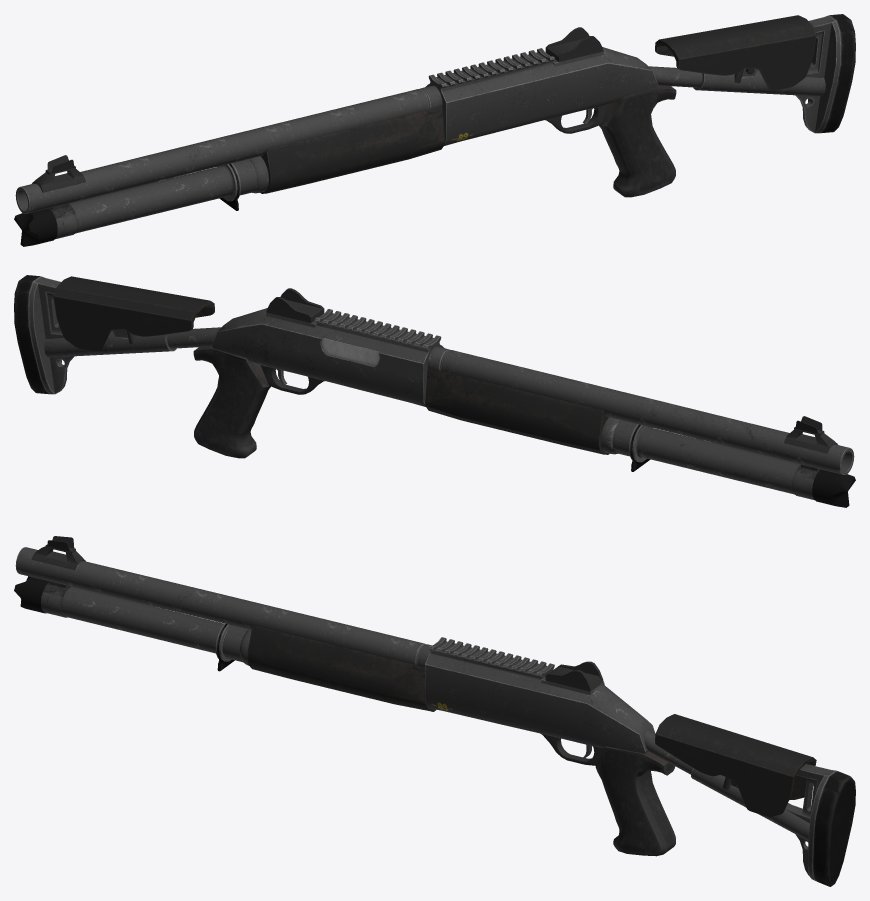
The picture shows the model from 3 angles, top to bottom: view 1: azimuth 30°, elevation 25°; view 2: azimuth 150°, elevation 25°; view 3: azimuth 330°, elevation 25°; orthographic projection.
Visible parts, largest first — view 1: Cylinder008, Cylinder001, Cylinder007, Box008, Cylinder010 (×2), Cylinder002, Box004, Cylinder006, Box009, Box002, Cylinder014, Box005; view 2: Cylinder008, Cylinder001, Cylinder007, Box008, Cylinder010 (×2), Cylinder002, Box004, Cylinder006, Box009, Box002, Box005, Cylinder014; view 3: Cylinder008, Cylinder001, Box008, Cylinder007, Cylinder010 (×2), Box004, Cylinder002, Box009, Cylinder006, Box002, Cylinder014.
Part boxes in pixels (x1,y1,x2,y2): Cylinder008: (425, 47, 658, 145); Cylinder001: (15, 85, 442, 213); Cylinder007: (260, 107, 444, 193); Box008: (655, 15, 816, 90); Cylinder010 (×2): (649, 14, 855, 133); Cylinder002: (69, 156, 268, 233); Box004: (599, 85, 676, 197); Cylinder006: (14, 208, 57, 246); Box009: (545, 27, 603, 61); Box002: (32, 165, 85, 192); Cylinder014: (49, 204, 77, 238); Box005: (545, 104, 609, 133); Cylinder008: (211, 308, 444, 406); Cylinder001: (427, 346, 854, 474); Cylinder007: (425, 367, 609, 454); Box008: (53, 276, 214, 351); Cylinder010 (×2): (14, 275, 220, 394); Cylinder002: (601, 417, 800, 494); Box004: (193, 346, 270, 458); Cylinder006: (812, 469, 855, 507); Box009: (266, 288, 324, 322); Box002: (784, 426, 837, 453); Box005: (260, 365, 324, 394); Cylinder014: (792, 465, 820, 499); Cylinder008: (425, 637, 655, 753); Cylinder001: (15, 547, 430, 666); Box008: (655, 714, 816, 816); Cylinder007: (247, 625, 436, 711); Cylinder010 (×2): (644, 730, 855, 886); Box004: (595, 746, 675, 856); Cylinder002: (61, 587, 251, 665); Box009: (545, 661, 603, 691); Cylinder006: (14, 576, 48, 613); Box002: (31, 544, 85, 570); Cylinder014: (41, 582, 71, 617).
Size of the model in its own units: 50.55 by 10.04 by 2.71.
Materials: 1 (1 with a texture image).
